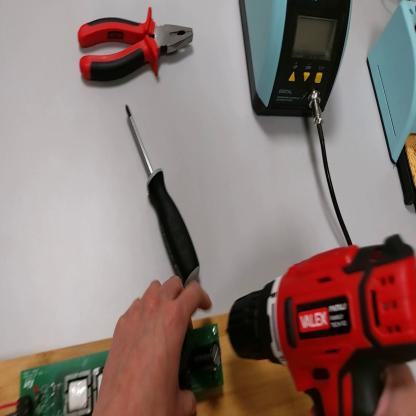electric screwdriver: (228, 231, 416, 414)
hand: (99, 275, 212, 413), (309, 359, 416, 414)
high voltage board: (1, 322, 226, 416)
pliers: (81, 10, 196, 83)
screwdriver-: (124, 102, 201, 285)
welder base: (368, 3, 415, 208)
welder station: (241, 3, 354, 126)
working area: (2, 310, 317, 415)
